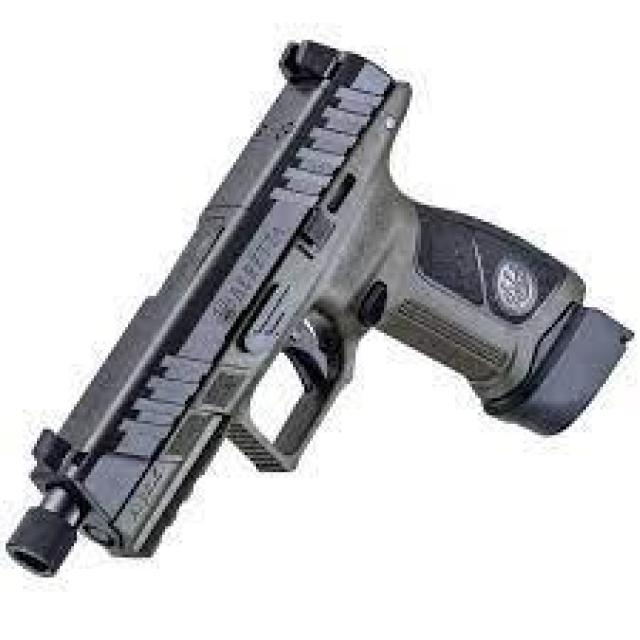gun: (6, 40, 637, 580)
